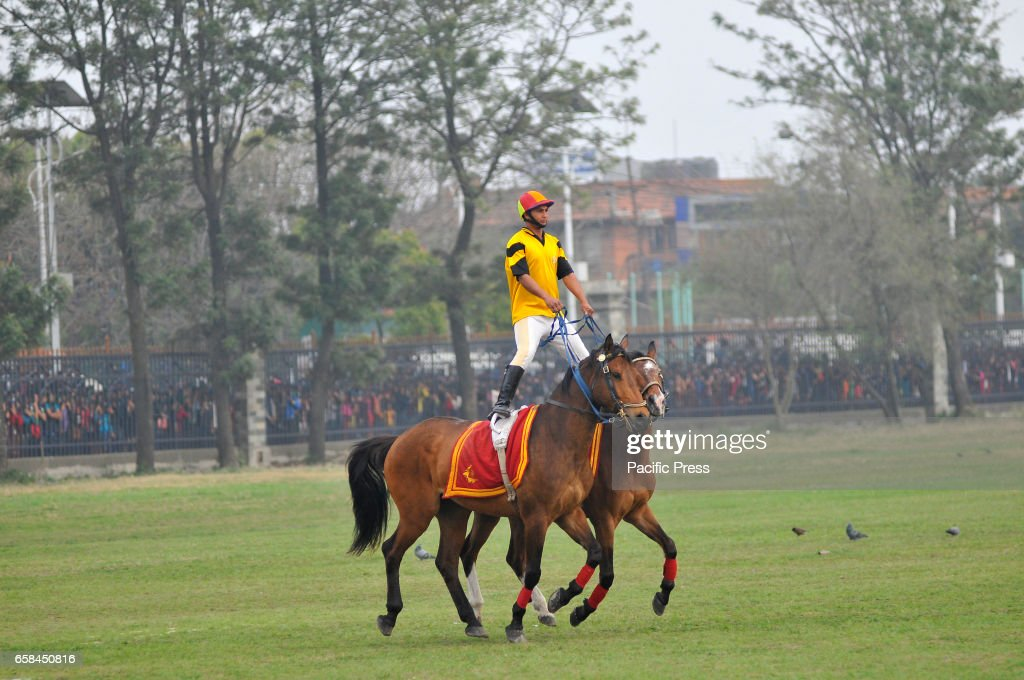human: (481, 166, 613, 445)
